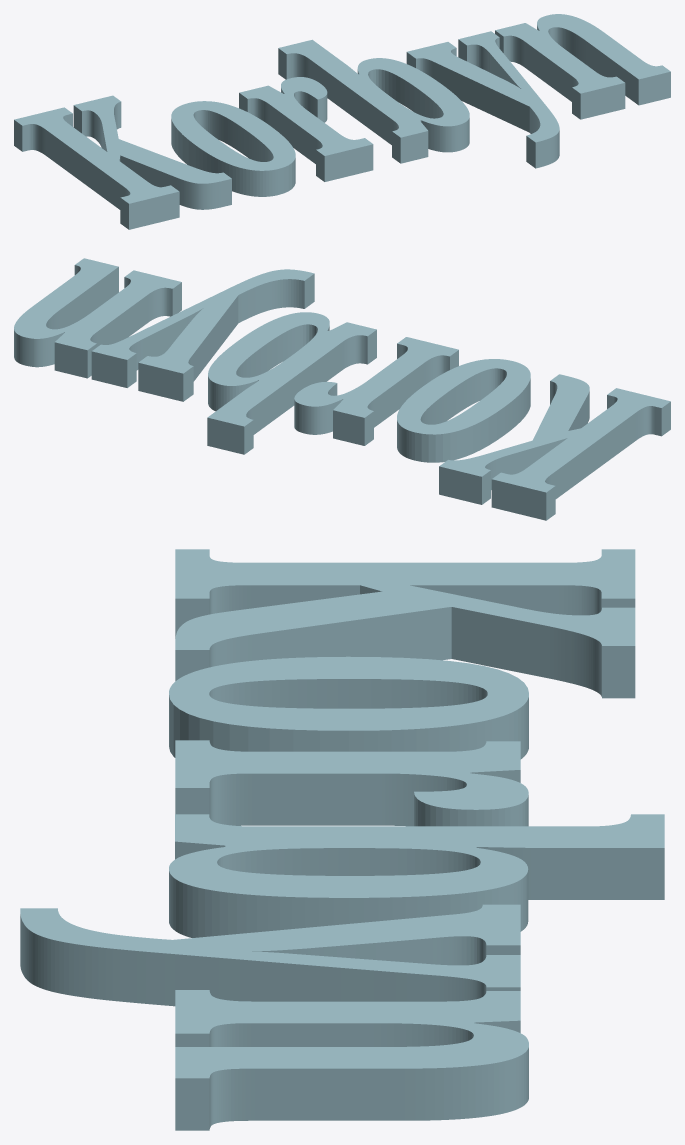
3 renders of one model, top to bottom at view 1: azimuth 30°, elevation 25°; view 2: azimuth 150°, elevation 25°; view 3: azimuth 270°, elevation 25°, orthographic. The views are drawn at different scales.
Visible parts, largest first — view 1: Mesh_Mesh_head_geo.001_lambert2SG.001; view 2: Mesh_Mesh_head_geo.001_lambert2SG.001; view 3: Mesh_Mesh_head_geo.001_lambert2SG.001.
Boxes of the visible parts, box(x1,y1,x2,y2) form: Mesh_Mesh_head_geo.001_lambert2SG.001: box(14, 14, 670, 229); Mesh_Mesh_head_geo.001_lambert2SG.001: box(14, 258, 670, 520); Mesh_Mesh_head_geo.001_lambert2SG.001: box(20, 549, 664, 1130).
Bounding box in the file's own units: 0.0218 × 0.001 × 0.0112.
